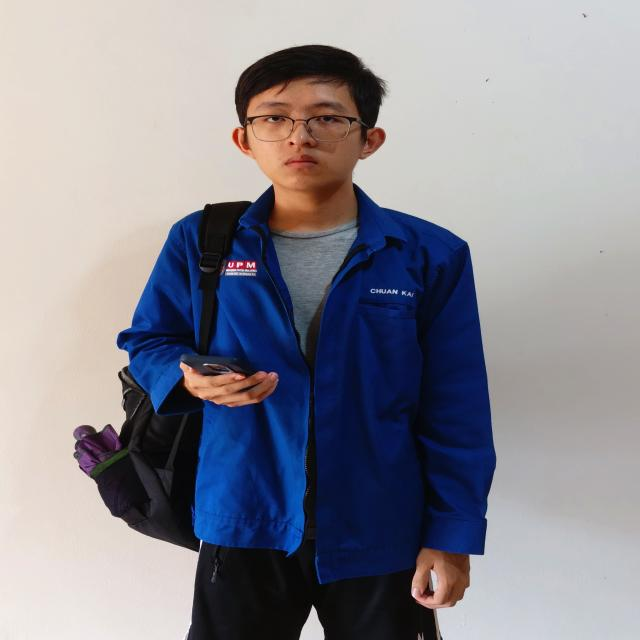person_with_labcoat: (75, 45, 495, 640)
